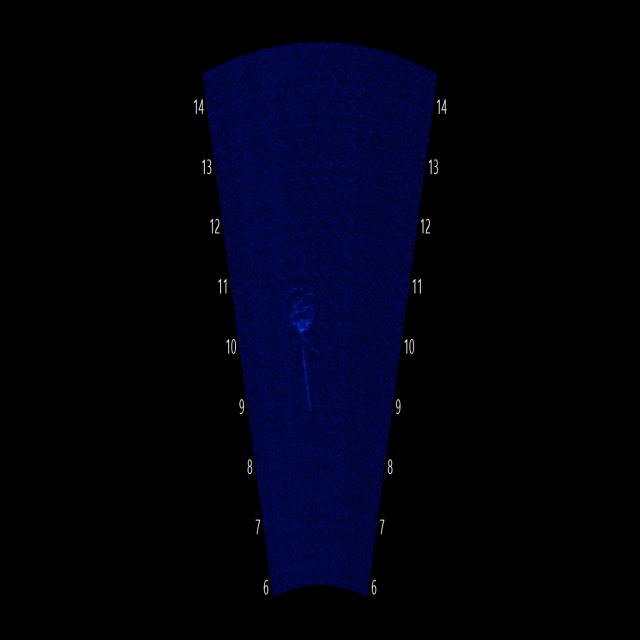circle: (282, 266, 321, 335)
